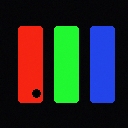0 point: (32, 89, 40, 97)
